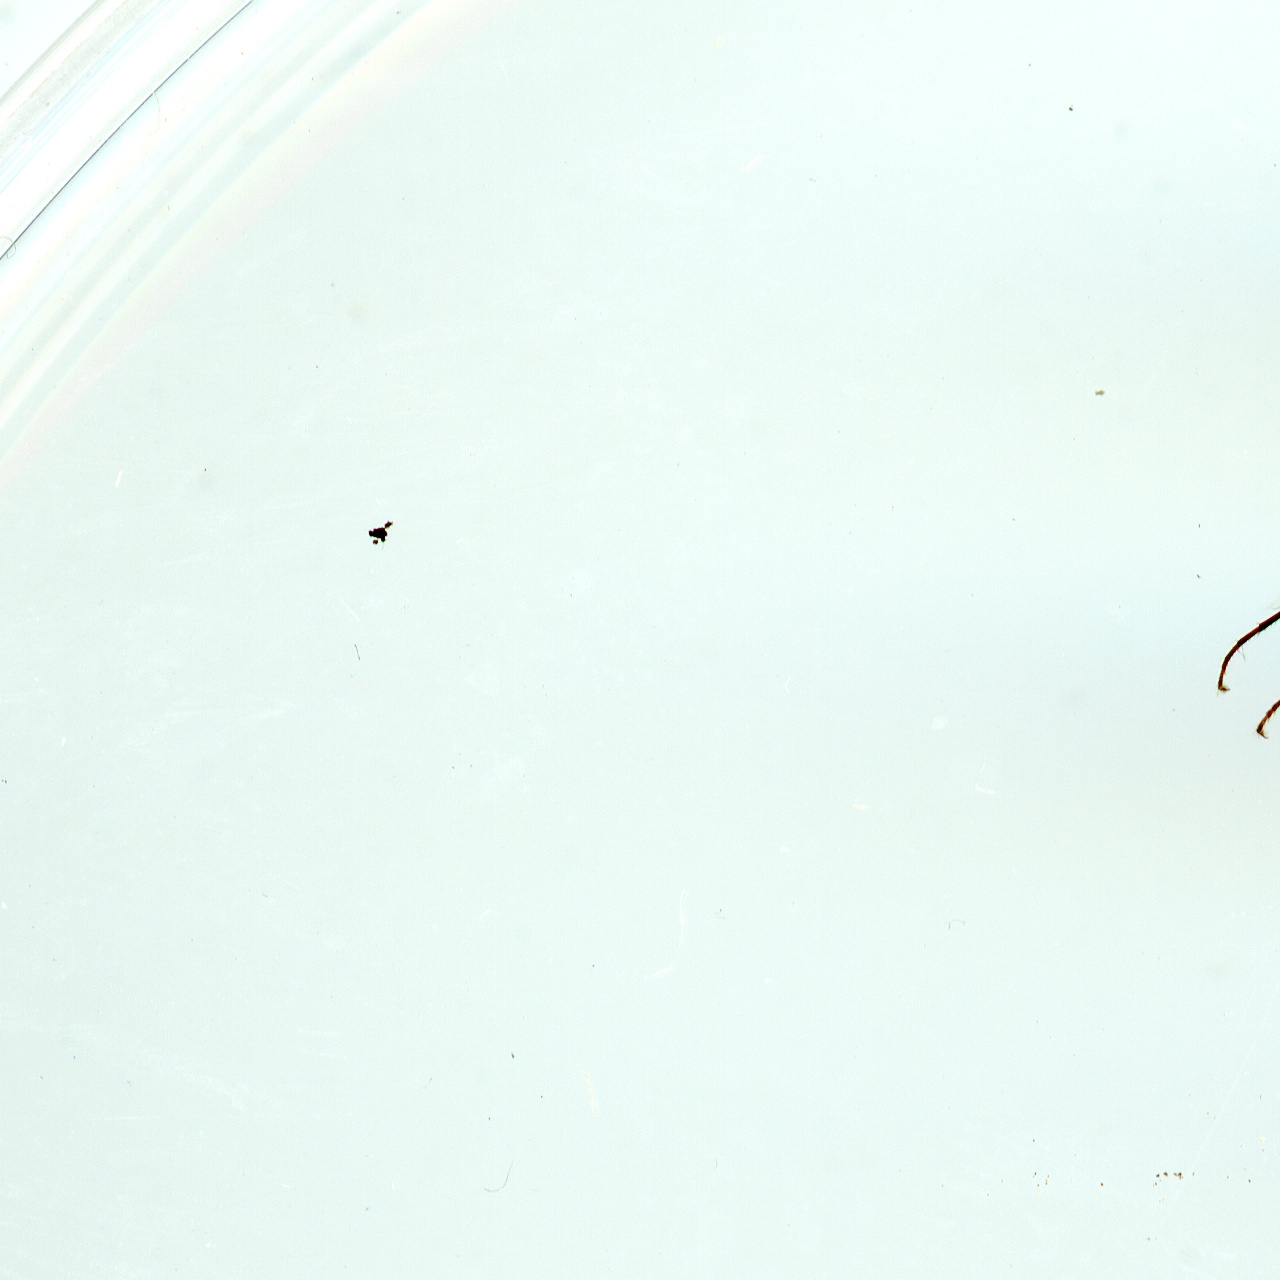arthropod: (1207, 367, 1280, 829)
